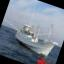fishing boat: (9, 11, 64, 62)
